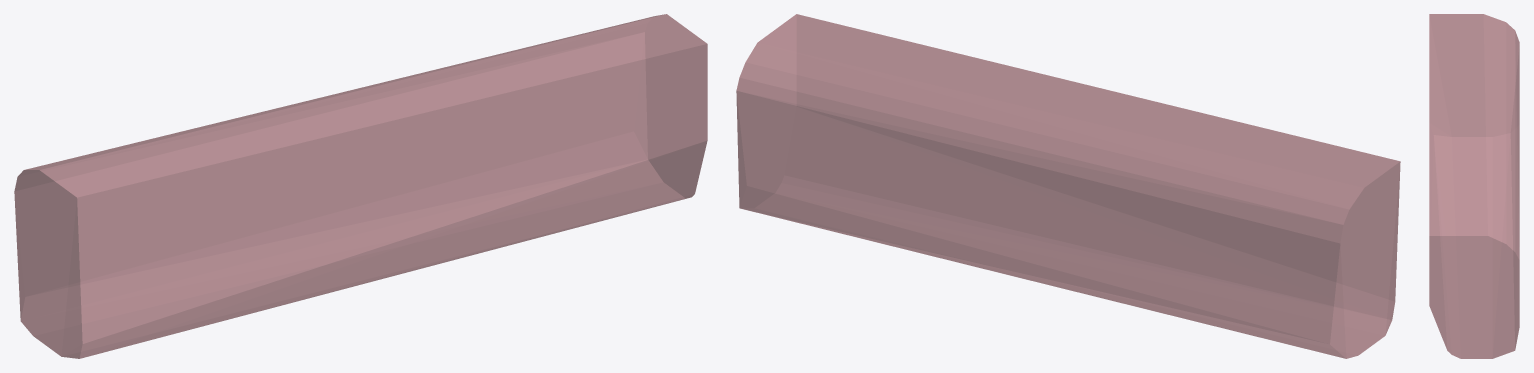
3 renders of one model, left to right at view 1: azimuth 30°, elevation 25°; view 2: azimuth 150°, elevation 25°; view 3: azimuth 270°, elevation 25°, orthographic. The views are drawn at different scales.
Visible parts, largest first — view 1: Shape_IndexedFaceSet.004_Shape_IndexedFaceSet.14051; view 2: Shape_IndexedFaceSet.004_Shape_IndexedFaceSet.14051; view 3: Shape_IndexedFaceSet.004_Shape_IndexedFaceSet.14051.
Part boxes in pixels (x1=…): Shape_IndexedFaceSet.004_Shape_IndexedFaceSet.14051: x1=14, y1=14, x2=707, y2=358; Shape_IndexedFaceSet.004_Shape_IndexedFaceSet.14051: x1=736, y1=14, x2=1400, y2=358; Shape_IndexedFaceSet.004_Shape_IndexedFaceSet.14051: x1=1429, y1=14, x2=1519, y2=358.
Size of the model in its own units: 0.3221 by 0.0833 by 0.0555.
